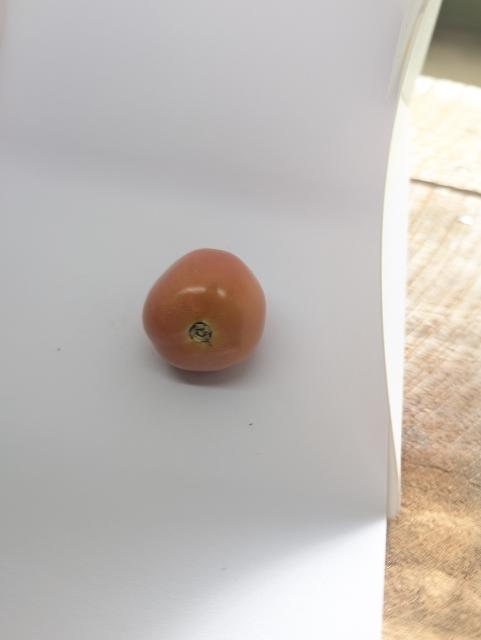turning: (136, 238, 270, 379)
